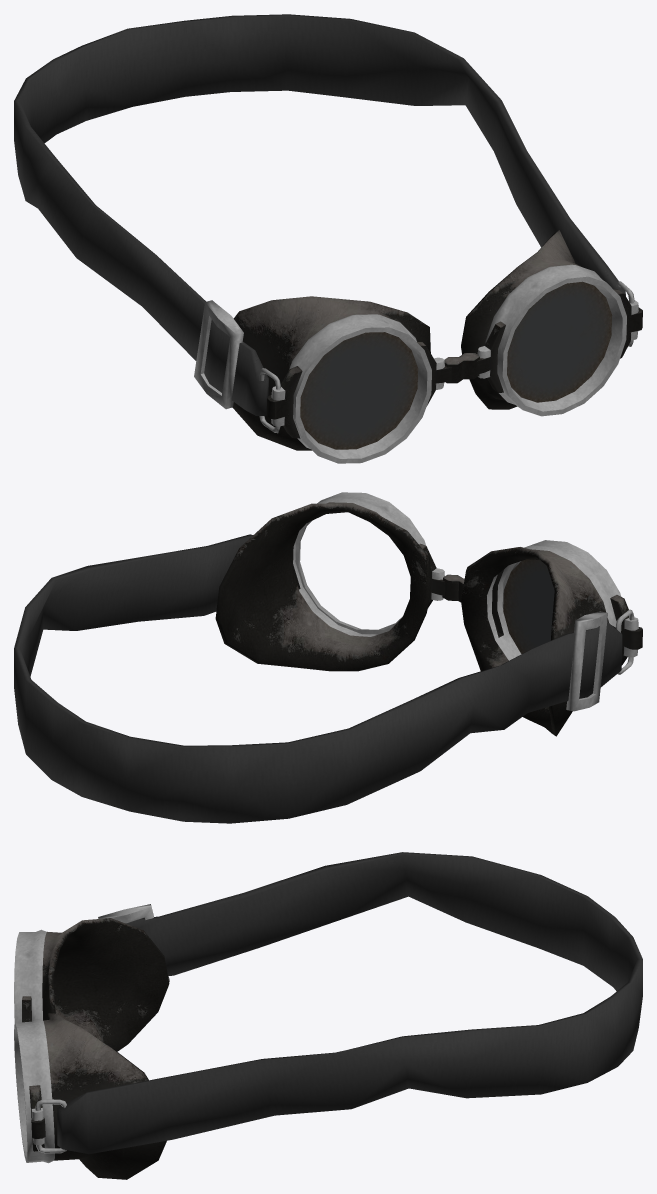
Rendered from glasses4.glb.
The picture shows the model from 3 angles, top to bottom: view 1: azimuth 30°, elevation 25°; view 2: azimuth 150°, elevation 25°; view 3: azimuth 270°, elevation 25°; orthographic projection. The views are drawn at different scales.
Visible parts, largest first — view 1: defaultMaterial (×7); view 2: defaultMaterial (×6); view 3: defaultMaterial (×4).
Boxes of the visible parts, x1,y1,x2,y2 form: defaultMaterial (×7): [14, 14, 642, 463]; defaultMaterial (×6): [14, 492, 642, 823]; defaultMaterial (×4): [14, 852, 642, 1179].
Bounding box in the file's own units: 1.48 × 0.6278 × 2.
2 materials, 2 textured.
